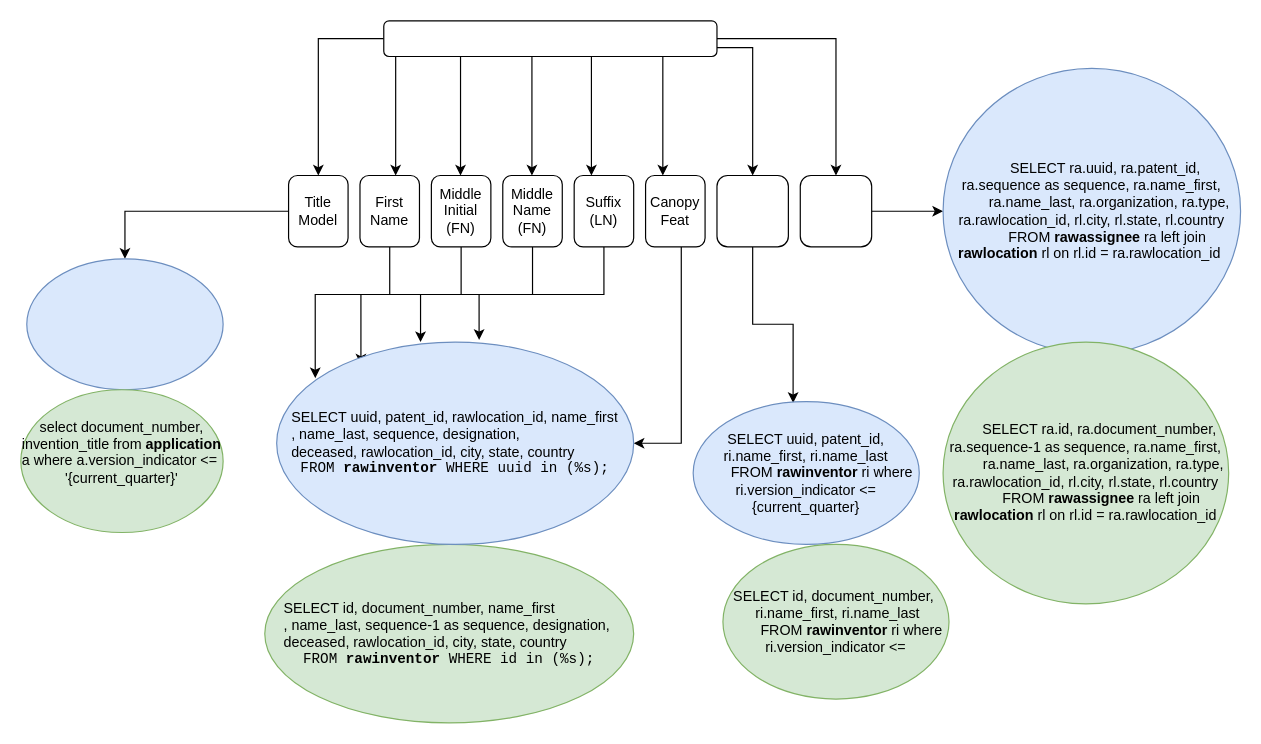
The diagram is 1261 pixels wide and 744 high, and some of its shapes have lost their labels. The shapes that lost their labels are listed below. From the top down, each one's box as (x1, y1, x2, y2) in pixels, then its label:
(383, 20, 717, 57): Inventor Hierarchical Clustering Algorithm
(716, 174, 788, 247): Co-inventors
(799, 174, 872, 247): Assignees
(26, 258, 223, 390): select id, title from patent a where a.version_indicator <= '{current_quarter}'
